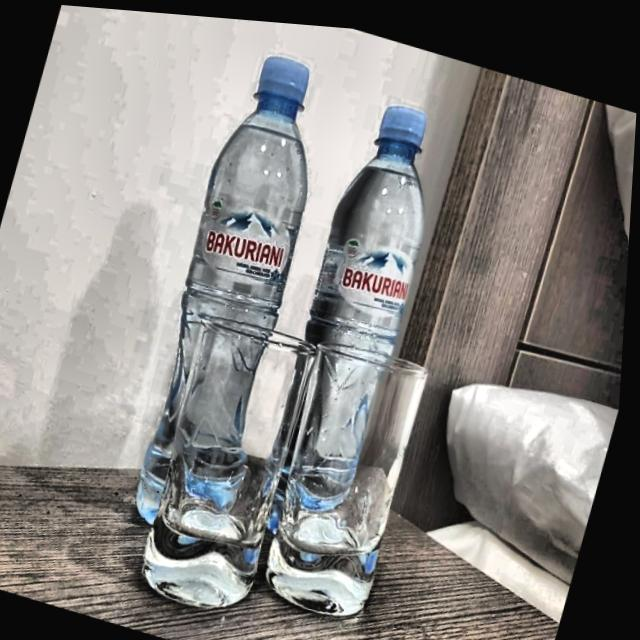Bottles: (120, 22, 363, 557), (245, 68, 477, 565)
